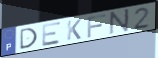2: (133, 7, 152, 31)
D: (19, 27, 39, 51)
E: (41, 20, 62, 47)
F: (86, 13, 108, 39)
K: (66, 18, 83, 42)
N: (108, 7, 131, 36)
